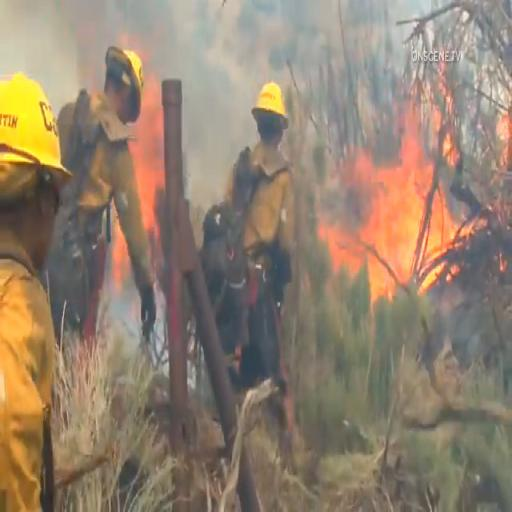fire: (341, 138, 460, 297)
